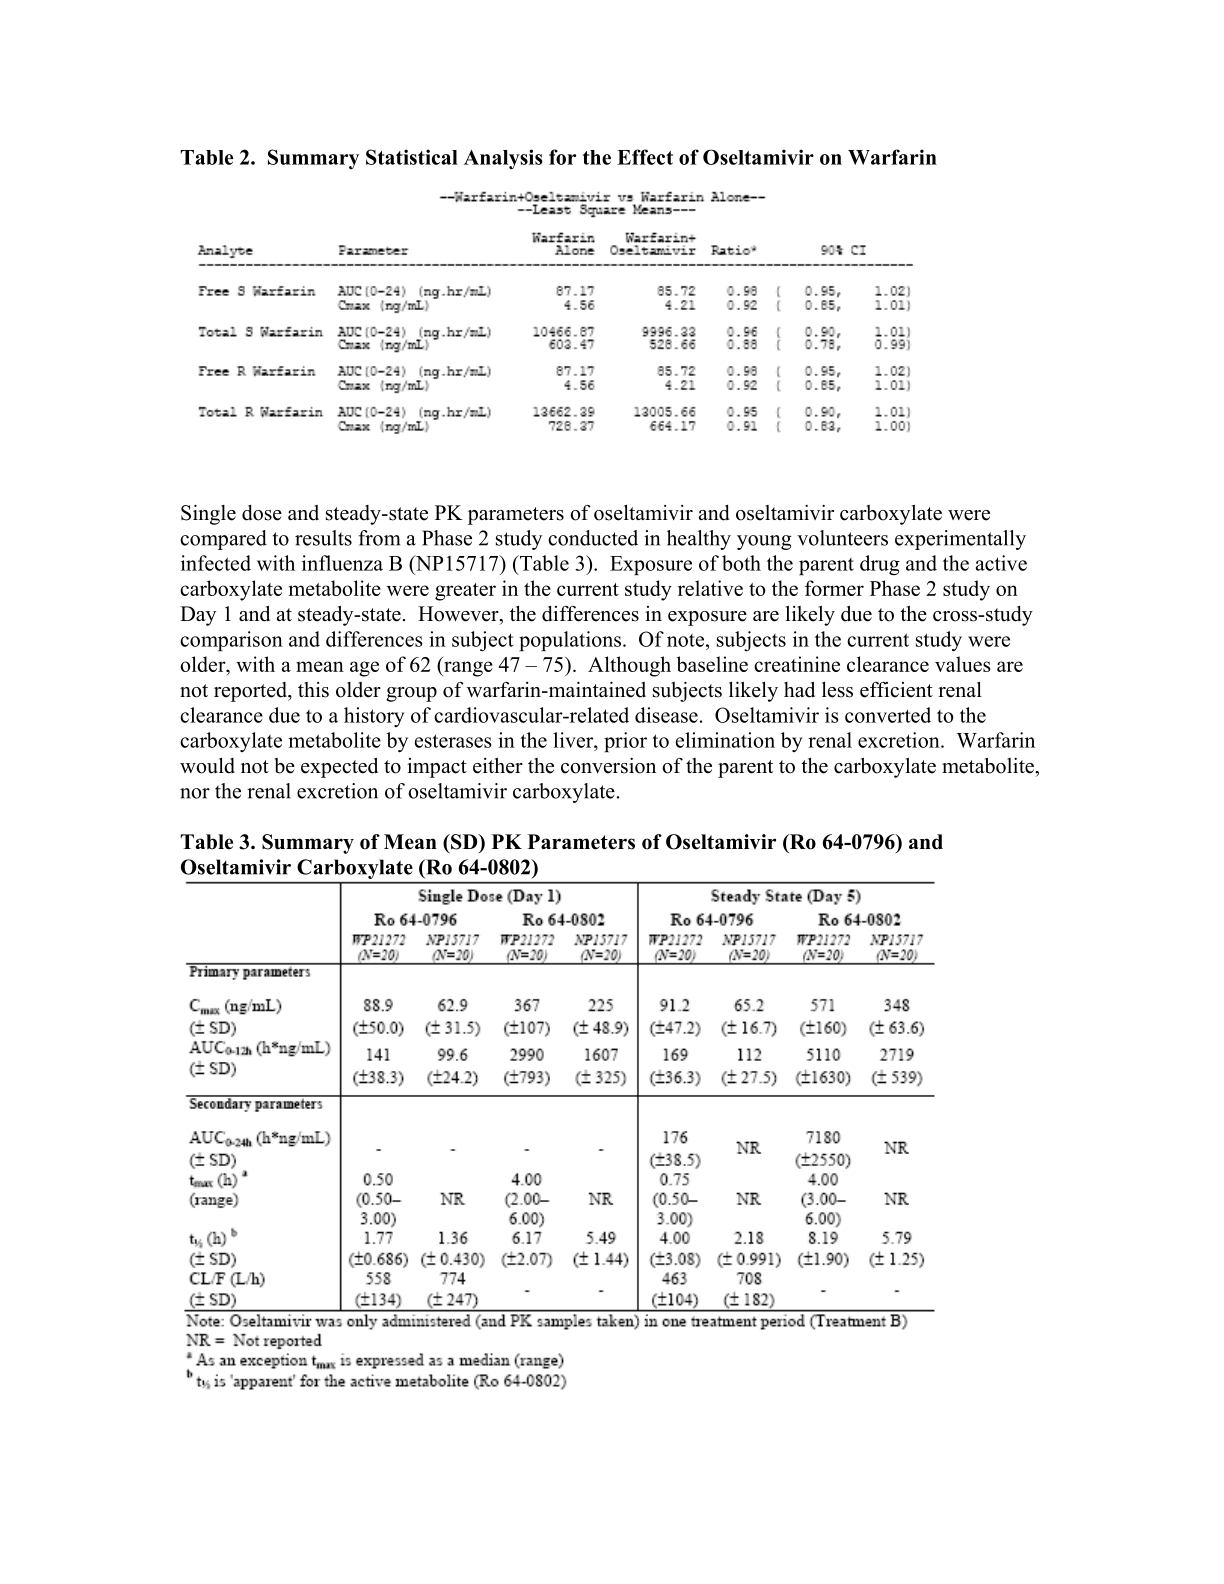partial_lined: (195, 228, 915, 437)
partial_lined_merged_cells: (185, 879, 935, 1313)
